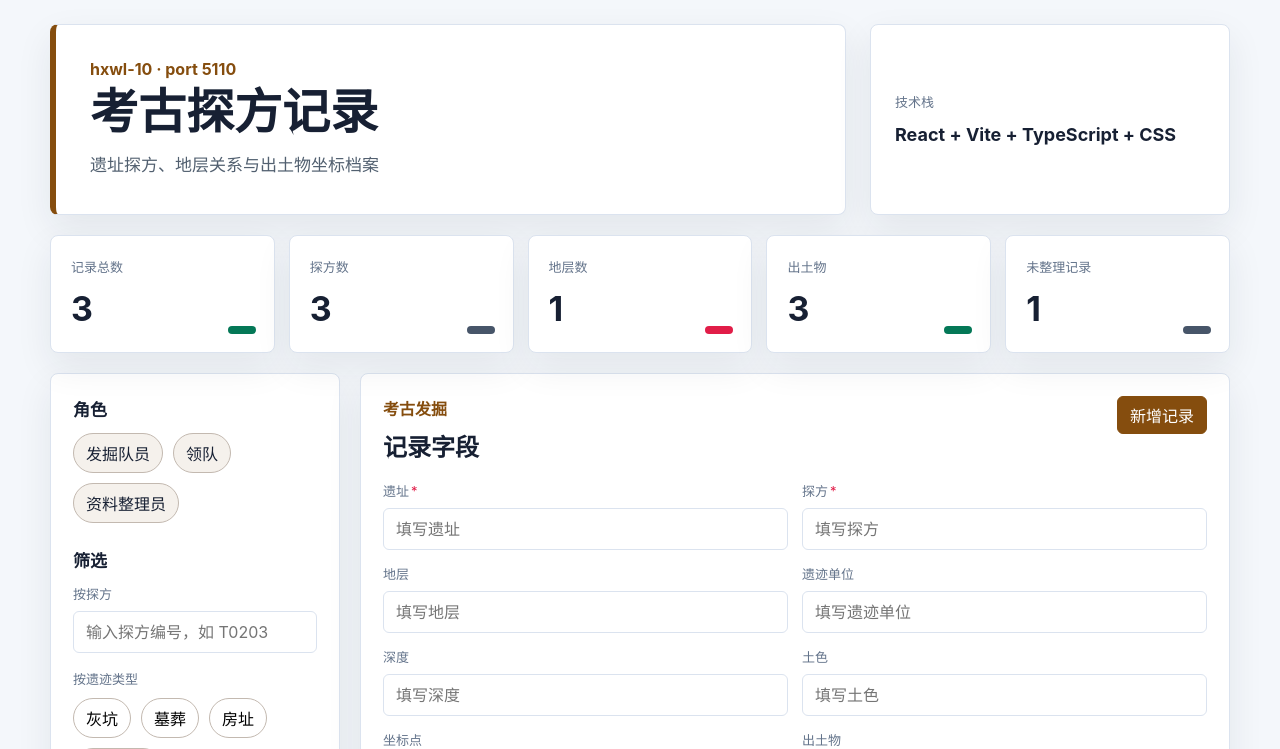
Test: 考古探方记录页 › 空字段拦截：必填项为空时提示并阻止新增
The image size is (1280, 749).
Step 1. Click the button "新增记录" → (1162, 415), box [1117, 396, 1207, 434]
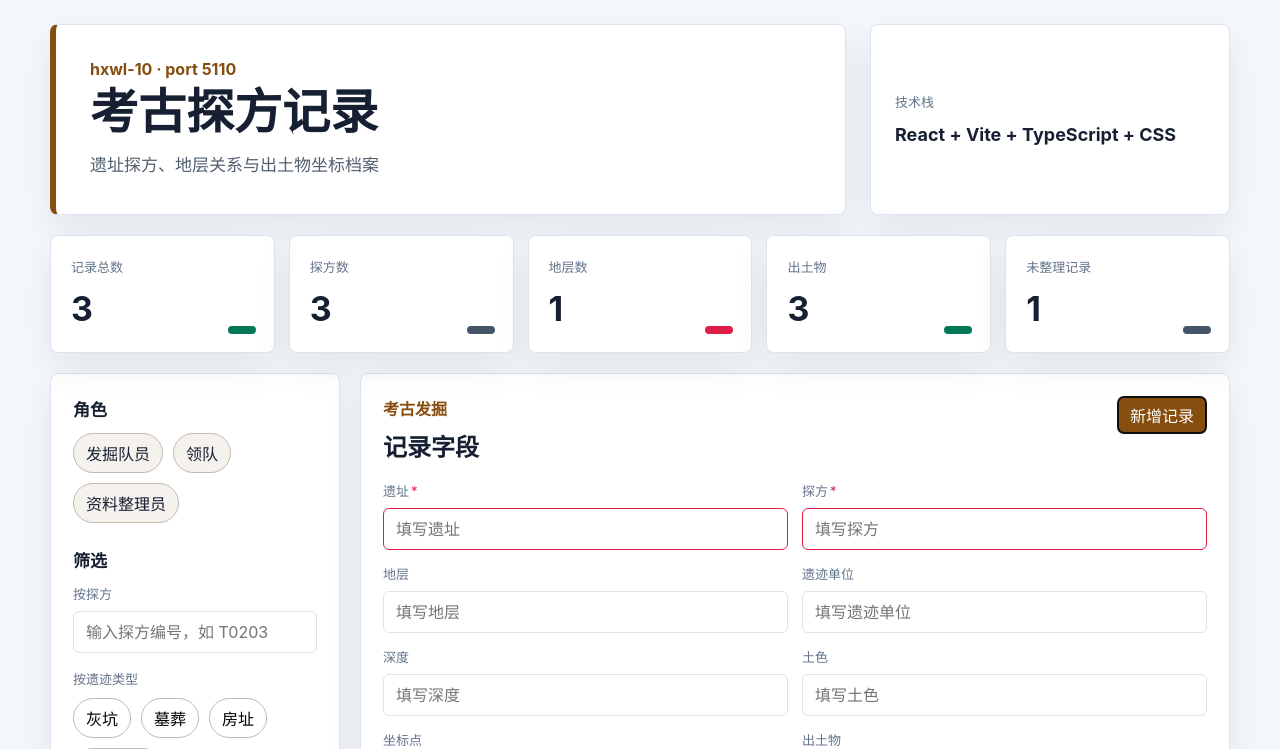
// 只填一部分仍然拦截，并提示剩余缺项
Step 2. Type "城河遗址" into the field with placeholder "填写遗址" → (586, 529), box [383, 508, 788, 550]
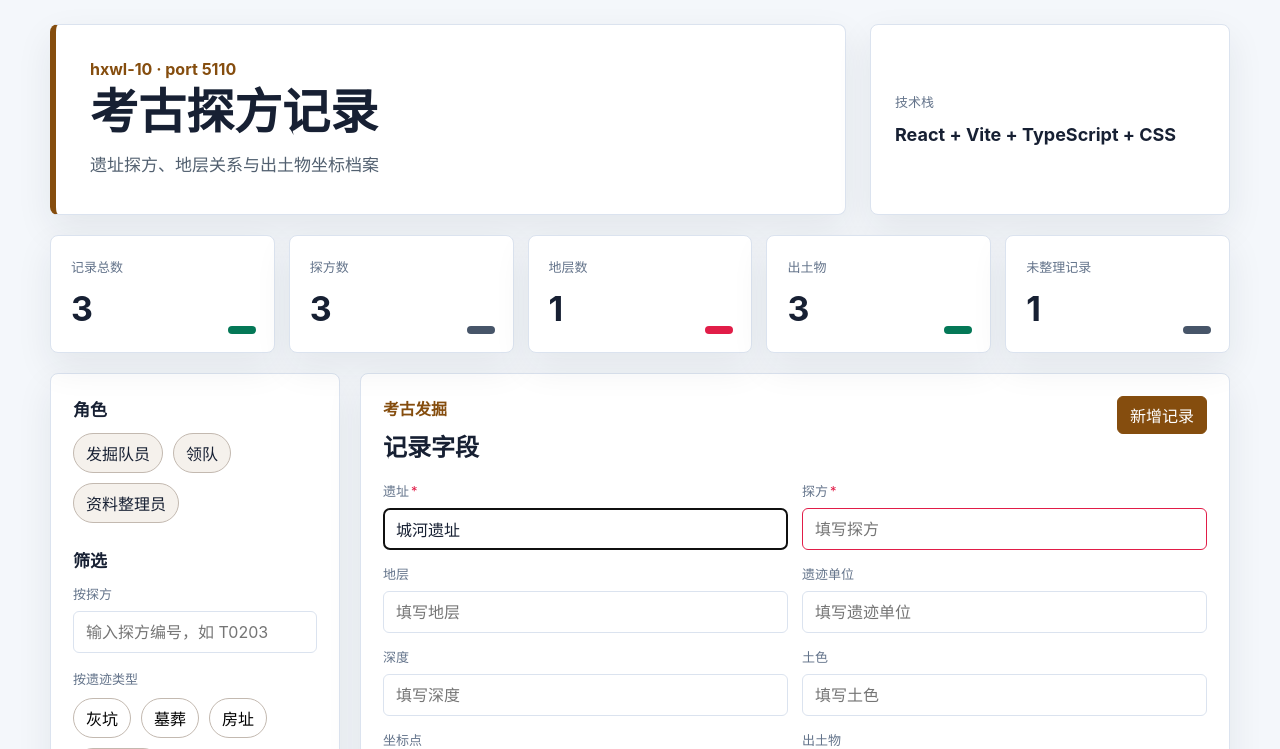
Step 3. Click the button "新增记录" → (1162, 415), box [1117, 396, 1207, 434]
(page scrolled)
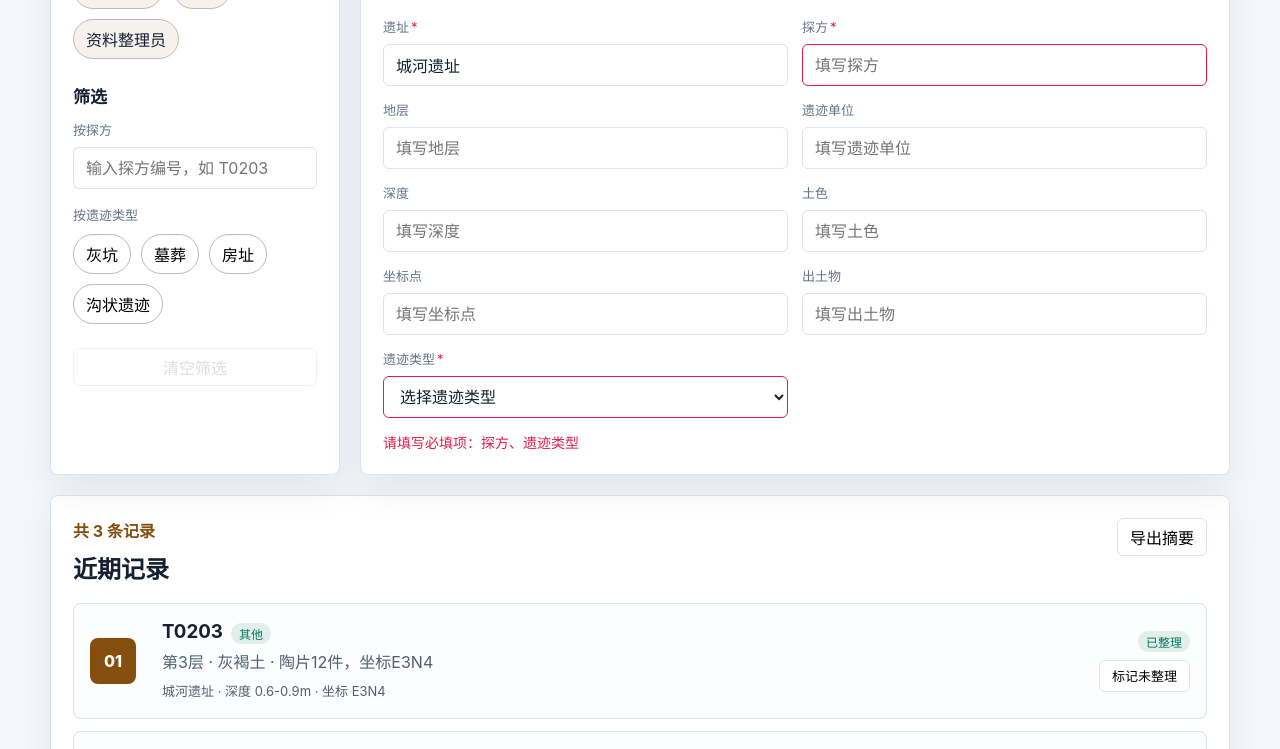
Result: the message reads "请填写必填项：探方、遗迹类型" at [383, 434, 579, 451]
